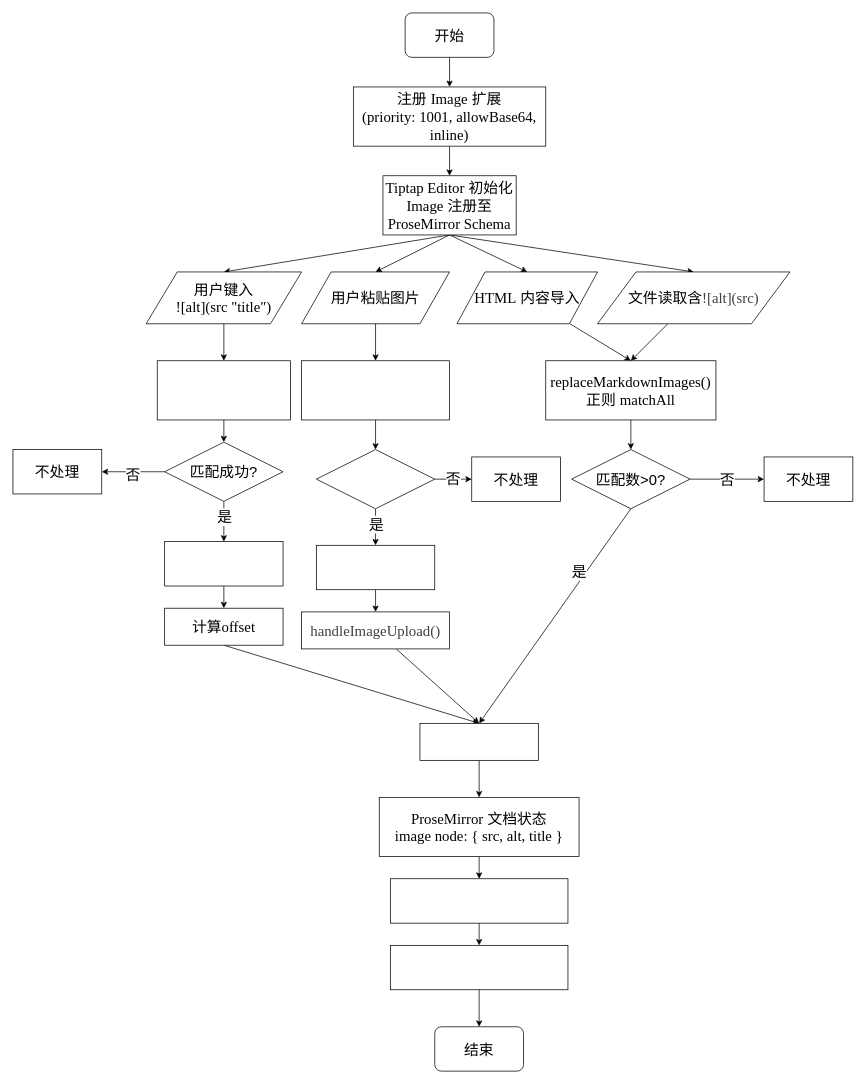
This 866x1084 diagram has some shape labels left out. Each missing label, with the box of its shape:
addInputRules() InputRule 正则匹配: (157, 360, 290, 420)
getAsFile(): (316, 545, 435, 590)
paste handler 遍历 clipboardData.items: (301, 360, 450, 420)
写入文件: (390, 945, 568, 990)
创建 image 节点: (419, 723, 538, 760)
序列化: (390, 878, 568, 923)
找到 image: (316, 449, 435, 509)
提取 alt, src, title: (164, 541, 283, 586)
